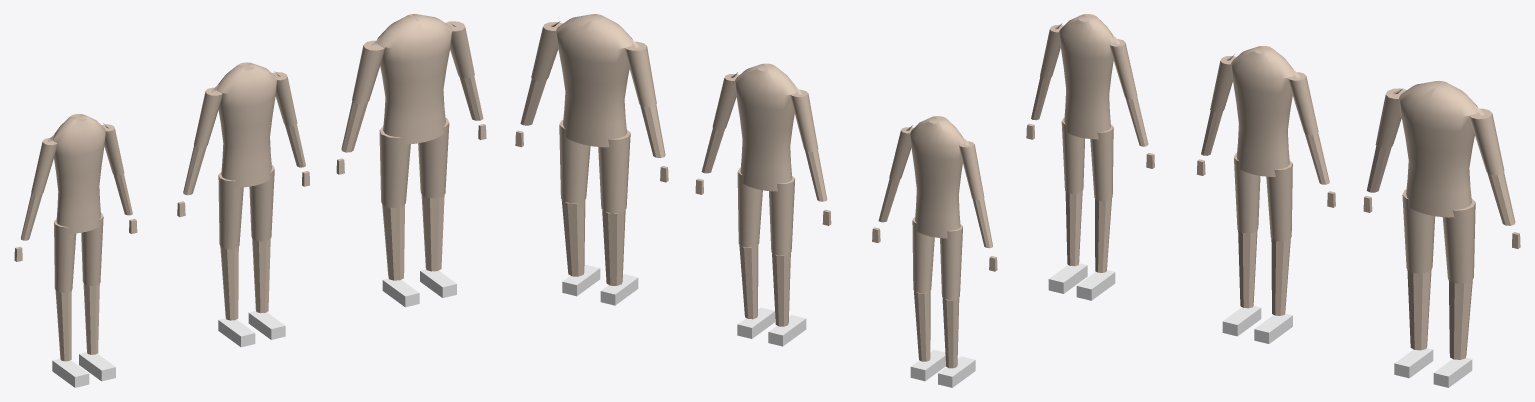
File: tls_chr_020_body_kit_v001.fbx
The picture shows the model from 3 angles, left to right: view 1: azimuth 30°, elevation 25°; view 2: azimuth 150°, elevation 25°; view 3: azimuth 330°, elevation 25°; orthographic projection. The views are drawn at different scales.
Parts seen in each view (by area): view 1: Crowd_Body_Heavy, Crowd_Body_Medium, Crowd_Body_Slim; view 2: Crowd_Body_Heavy, Crowd_Body_Medium, Crowd_Body_Slim; view 3: Crowd_Body_Heavy, Crowd_Body_Medium, Crowd_Body_Slim.
Boxes of the visible parts, x1,y1,x2,y2 form: Crowd_Body_Heavy: [336, 14, 486, 307]; Crowd_Body_Medium: [177, 62, 309, 347]; Crowd_Body_Slim: [14, 114, 137, 387]; Crowd_Body_Heavy: [515, 14, 668, 305]; Crowd_Body_Medium: [695, 63, 831, 346]; Crowd_Body_Slim: [872, 116, 997, 387]; Crowd_Body_Heavy: [1363, 81, 1520, 387]; Crowd_Body_Medium: [1196, 46, 1335, 343]; Crowd_Body_Slim: [1026, 14, 1154, 300].
Bounding box in the file's own units: 2.8 × 0.299 × 1.54.
